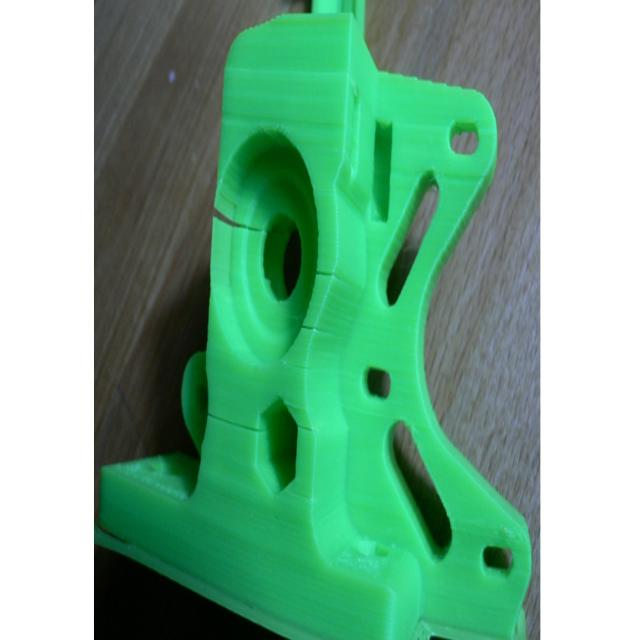Warping: (199, 394, 263, 444), (202, 188, 254, 248)
